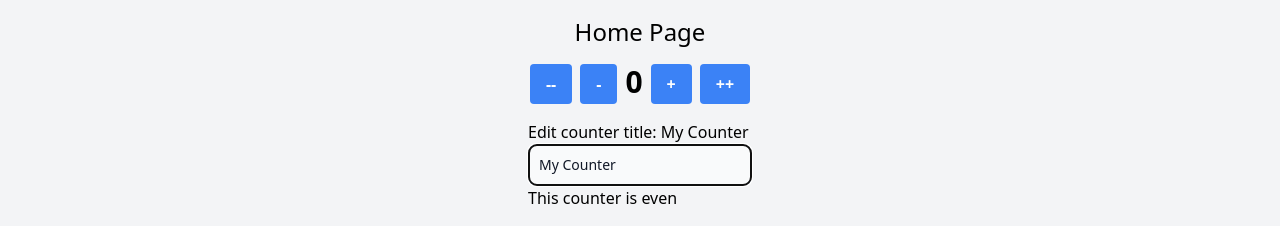
Test case: HomePage.vue › should the counter element increment by two when the button is clicked
Click the button with class "double-increment".
click(725, 84)  # box [700,64,750,104]
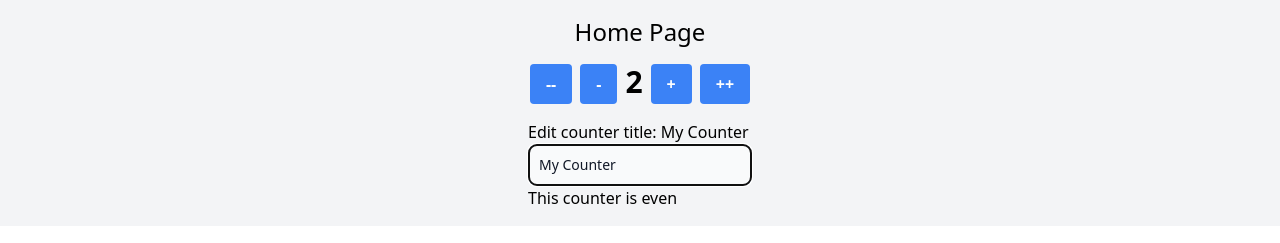
Result: the text with class "counter" reads "2" at [625,61,643,102]
